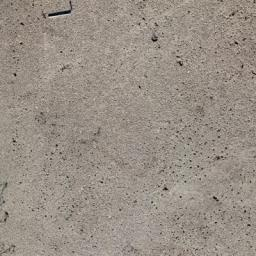FOD: (43, 1, 79, 23)
